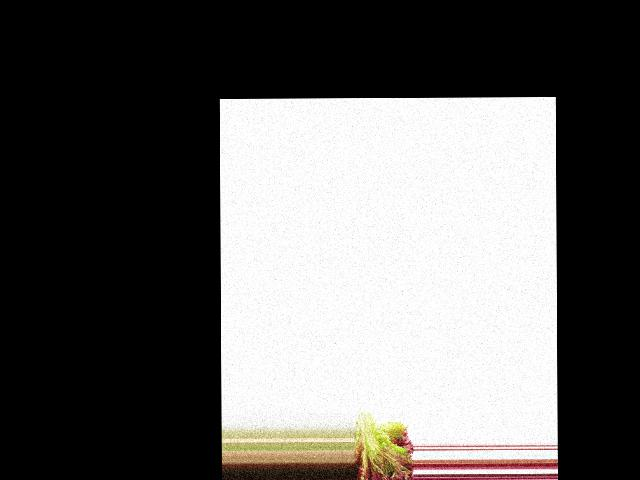lettuce: (353, 408, 412, 480)
